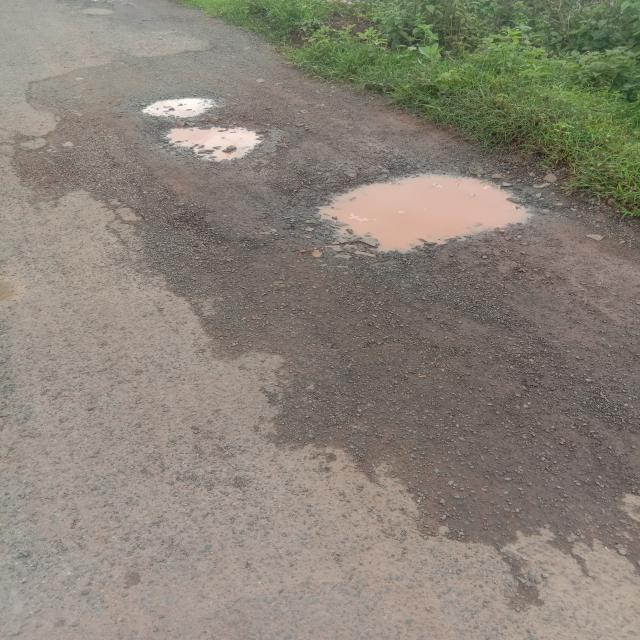potholes: (315, 165, 558, 260), (160, 125, 263, 169), (138, 94, 228, 127)
